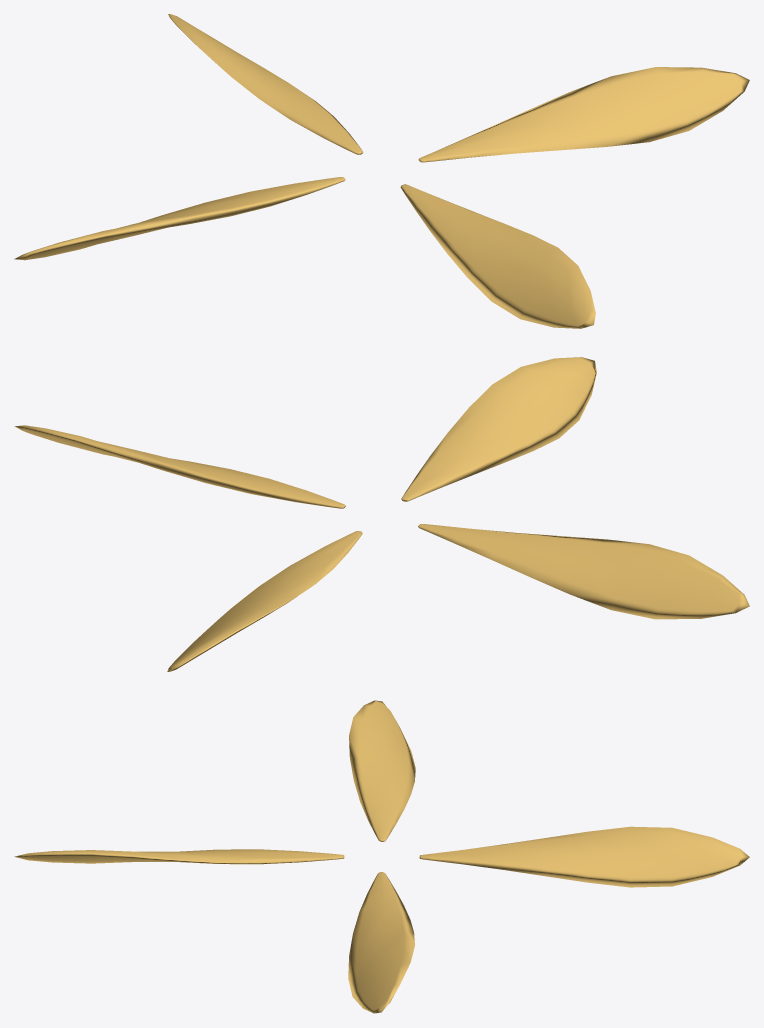
3 views of the same model, one above another, from view 1: azimuth 30°, elevation 25°; view 2: azimuth 150°, elevation 25°; view 3: azimuth 270°, elevation 25° (orthographic). The views are drawn at different scales.
Visible parts, largest first — view 1: Ventilator_Blades; view 2: Ventilator_Blades; view 3: Ventilator_Blades.
Boxes of the visible parts, left/top/right/bottom form: Ventilator_Blades: left=14, top=14, right=749, bottom=328; Ventilator_Blades: left=14, top=357, right=749, bottom=671; Ventilator_Blades: left=14, top=700, right=749, bottom=1013.
Bounding box in the file's own units: 109 × 5.59 × 109.
